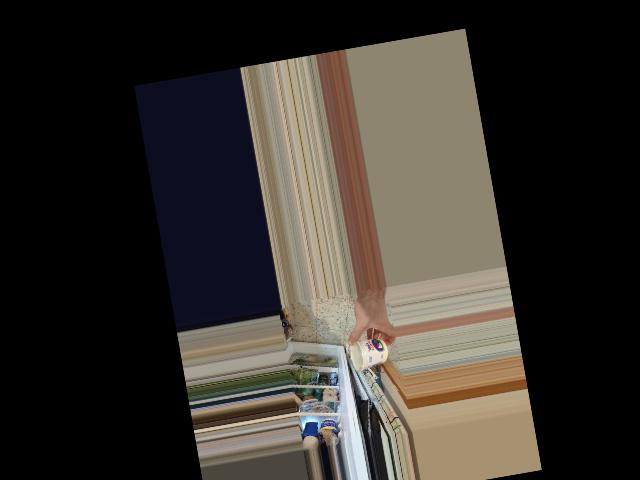cotage: (347, 334, 392, 372)
